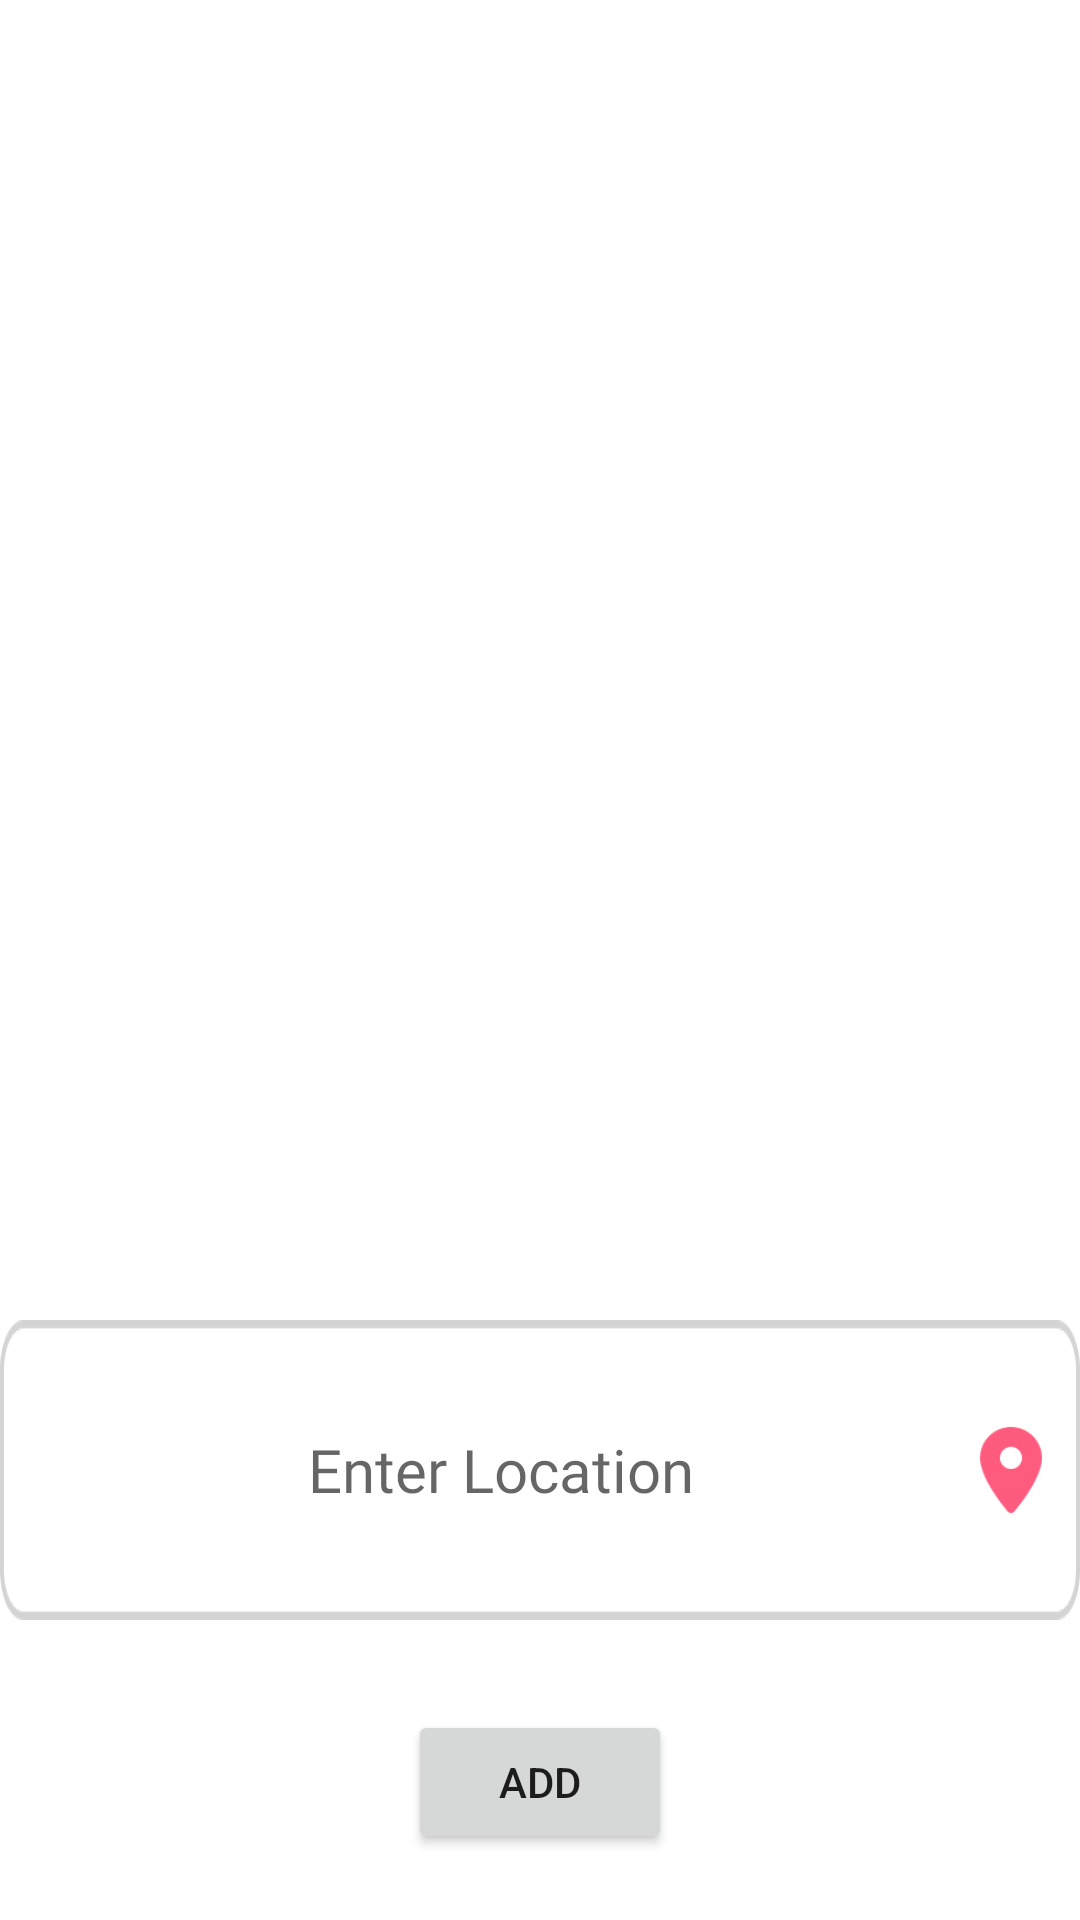

Icons on this 1080×1920 Android screen, each with the point to tap as (x,y):
locationiconimg: (1011,1470)
